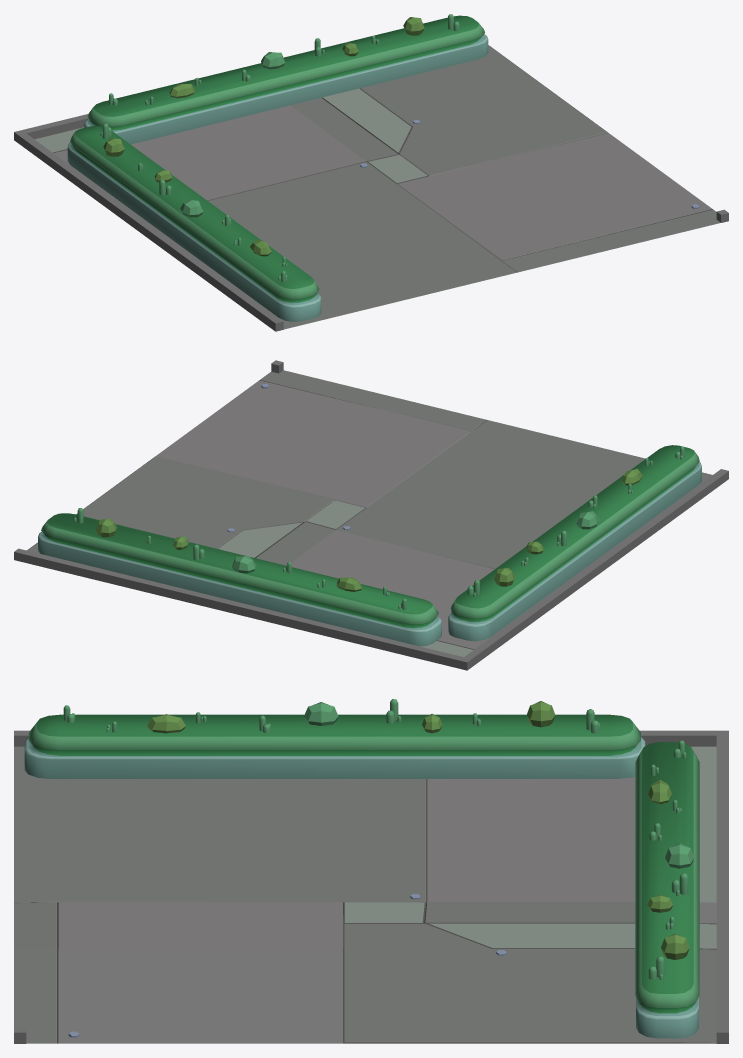
File: Corner_A.gltf
3 renders of one model, top to bottom at view 1: azimuth 30°, elevation 25°; view 2: azimuth 150°, elevation 25°; view 3: azimuth 270°, elevation 25°, orthographic. The views are drawn at different scales.
Parts seen in each view (by area): view 1: Scifi_Panel_04_Plaza014_group4.011_Scifi_Panel_04_Plaza014_.; view 2: Scifi_Panel_04_Plaza014_group4.011_Scifi_Panel_04_Plaza014_.; view 3: Scifi_Panel_04_Plaza014_group4.011_Scifi_Panel_04_Plaza014_..
Part boxes in pixels (x1,y1,x2,y2): Scifi_Panel_04_Plaza014_group4.011_Scifi_Panel_04_Plaza014_.: (14, 14, 728, 331); Scifi_Panel_04_Plaza014_group4.011_Scifi_Panel_04_Plaza014_.: (14, 360, 728, 670); Scifi_Panel_04_Plaza014_group4.011_Scifi_Panel_04_Plaza014_.: (14, 699, 728, 1043).
Size of what is drawn, in the model's own units: 10 by 0.9439 by 10.
1 material, 1 textured.
